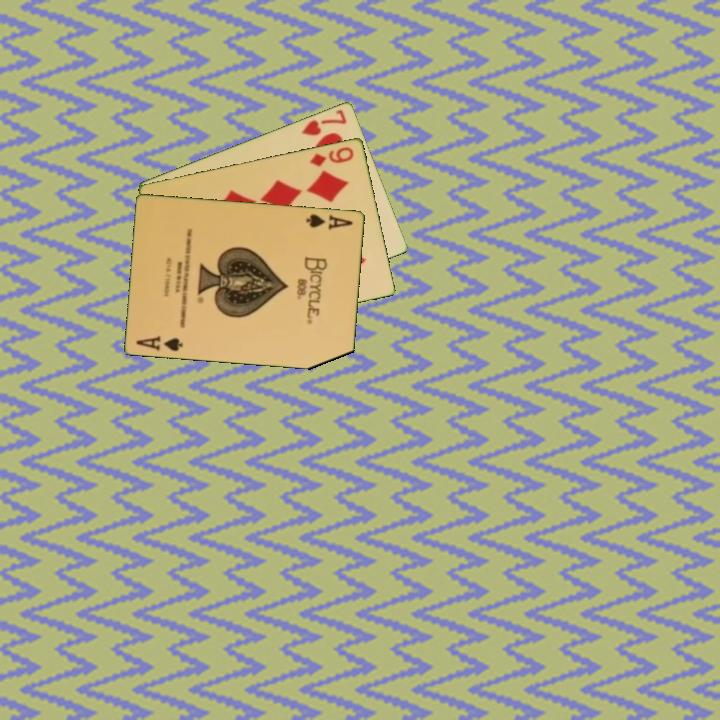7h: (298, 105, 350, 138)
9d: (306, 143, 357, 169)
As: (303, 210, 356, 232), (133, 332, 186, 354)
